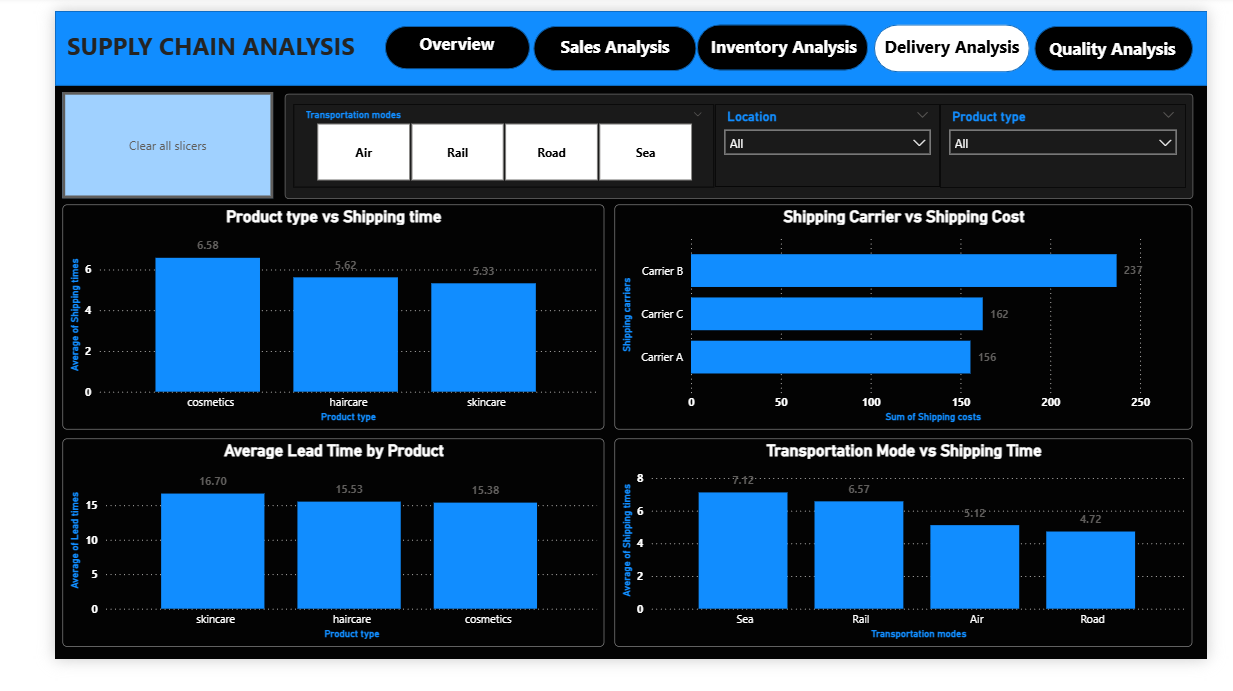

The dashboard page shown, as its layout file describes it:
{"tool":"powerbi","page":{"name":"Delivery Analysis","canvas":[1280,720],"ordinal":3},"visuals":[{"type":"shape","box":[0,0,1280.6,83.1],"z":0},{"type":"textbox","box":[8.6,15.8,356.7,61.6],"z":1000},{"type":"shape","box":[366,16,161,48],"z":2000},{"type":"shape","box":[531,16,181,50],"z":3000},{"type":"shape","box":[714,15,190,51],"z":4000},{"type":"shape","box":[910,15,173,53],"z":5000},{"type":"shape","box":[1088,17,176,50],"z":6000},{"type":"actionButton","box":[8,90,234,118],"z":7000},{"type":"textbox","box":[385,19,123,39],"z":8000},{"type":"textbox","box":[551,21,141,39],"z":9000},{"type":"textbox","box":[716,21,186,41],"z":10000},{"type":"textbox","box":[910,22,173,39],"z":11000},{"type":"textbox","box":[1094,23,163,35],"z":12000},{"type":"shape","box":[255.5,90.9,1010,117.3],"z":13000},{"type":"slicer","fields":{"Values":["supply_chain_data.Transportation modes"]},"box":[265.5,102.7,467.3,92.7],"z":14000},{"type":"slicer","fields":{"Values":["supply_chain_data.Location"]},"box":[733.3,103.3,250,91.7],"z":15000},{"type":"clusteredColumnChart","title":"Product type vs Shipping time","fields":{"Category":["supply_chain_data.Product type"],"Y":["Avg(supply_chain_data.Shipping times)"]},"box":[8.3,215,601.7,250],"z":16000},{"type":"clusteredColumnChart","title":"Average Lead Time by Product","fields":{"Category":["supply_chain_data.Product type"],"Y":["Avg(supply_chain_data.Lead times)"]},"box":[7.8,474.4,602.2,231.1],"z":17000},{"type":"clusteredBarChart","title":"Shipping Carrier vs Shipping Cost","fields":{"Category":["supply_chain_data.Shipping carriers"],"Y":["Sum(supply_chain_data.Shipping costs)"]},"box":[621.1,214.4,642.2,250],"z":18000},{"type":"clusteredColumnChart","title":"Transportation Mode vs Shipping Time","fields":{"Category":["supply_chain_data.Transportation modes"],"Y":["Avg(supply_chain_data.Shipping times)"]},"box":[621.1,474.4,642.2,231.1],"z":19000},{"type":"slicer","fields":{"Values":["supply_chain_data.Product type"]},"box":[983.3,103.3,273.3,93.3],"z":19001}]}

Visuals, with their boxes in screenshot pixels (x1, y1, x2, y2), scaled from the page's 1280x720 canvas onto the 1233x691 screenshot:
shape: 0, 0, 1232, 80
textbox: 8, 15, 352, 74
shape: 353, 15, 508, 61
shape: 512, 15, 686, 63
shape: 688, 14, 871, 63
shape: 877, 14, 1043, 65
shape: 1048, 16, 1218, 64
actionButton: 8, 86, 233, 200
textbox: 371, 18, 489, 56
textbox: 531, 20, 667, 58
textbox: 690, 20, 869, 60
textbox: 877, 21, 1043, 59
textbox: 1054, 22, 1211, 56
shape: 246, 87, 1219, 200
slicer - supply_chain_data.Transportation modes: 256, 99, 706, 188
slicer - supply_chain_data.Location: 706, 99, 947, 187
"Product type vs Shipping time" clusteredColumnChart: 8, 206, 588, 446
"Average Lead Time by Product" clusteredColumnChart: 8, 455, 588, 677
"Shipping Carrier vs Shipping Cost" clusteredBarChart: 598, 206, 1217, 446
"Transportation Mode vs Shipping Time" clusteredColumnChart: 598, 455, 1217, 677
slicer - supply_chain_data.Product type: 947, 99, 1210, 189
